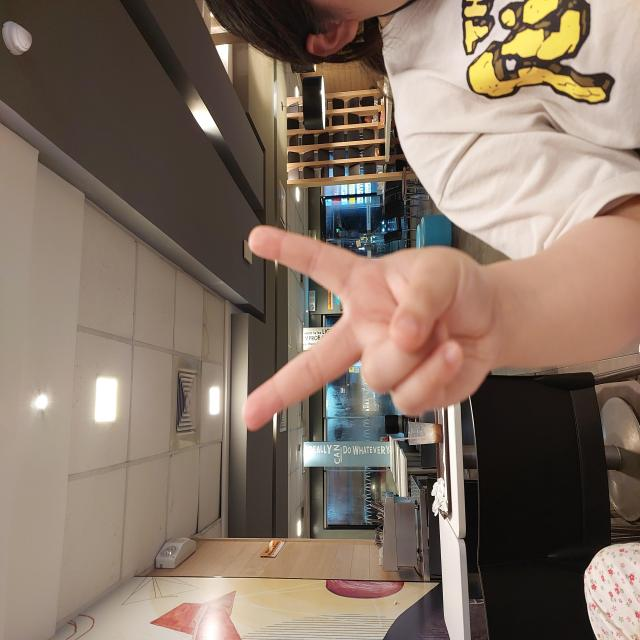V: (206, 240, 416, 492)
